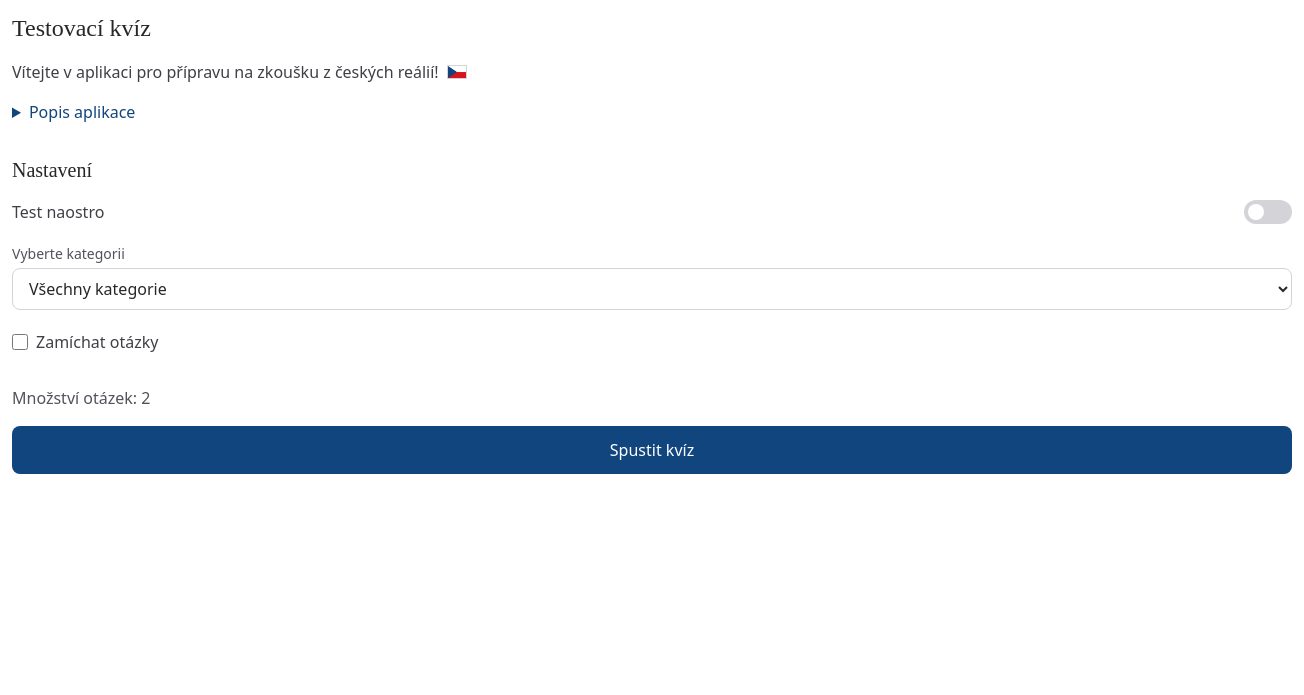
Quiz › playing through a quiz › scores a fully correct run
Click the button "Spustit kvíz".
click(652, 450)  # box [12,426,1292,474]
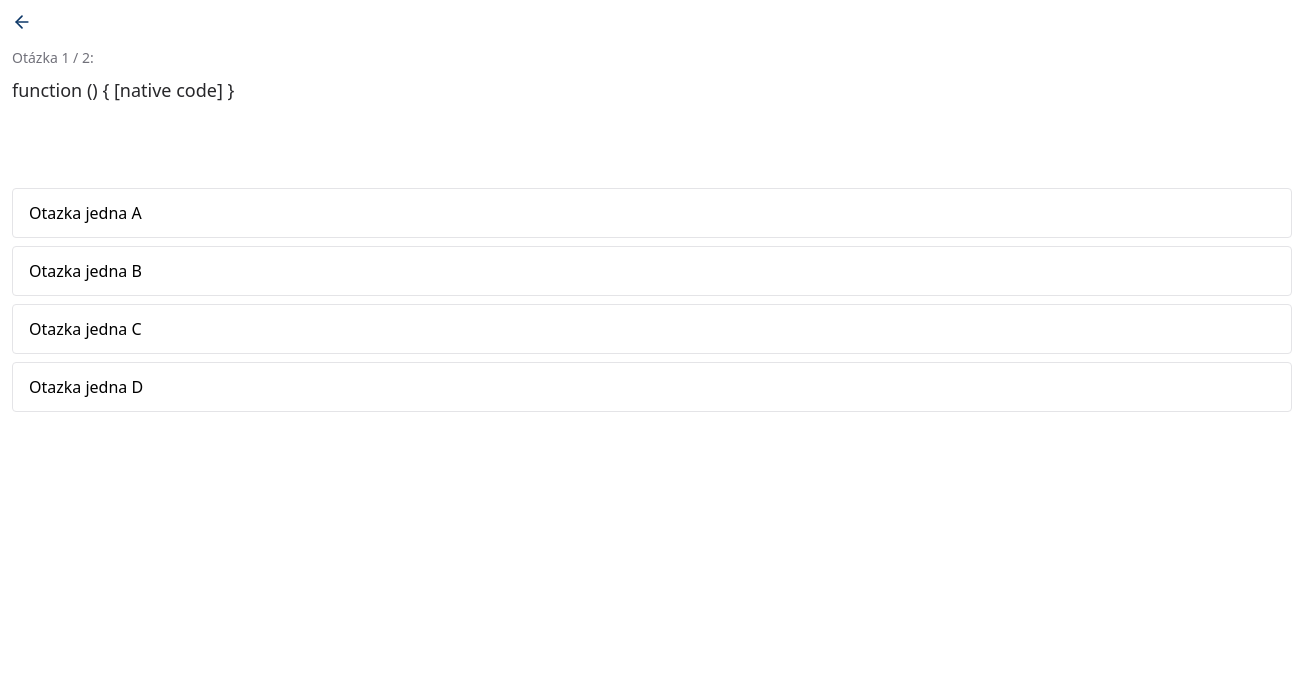
Click the button "Otazka jedna C".
click(85, 329)  # box [12,304,1292,354]
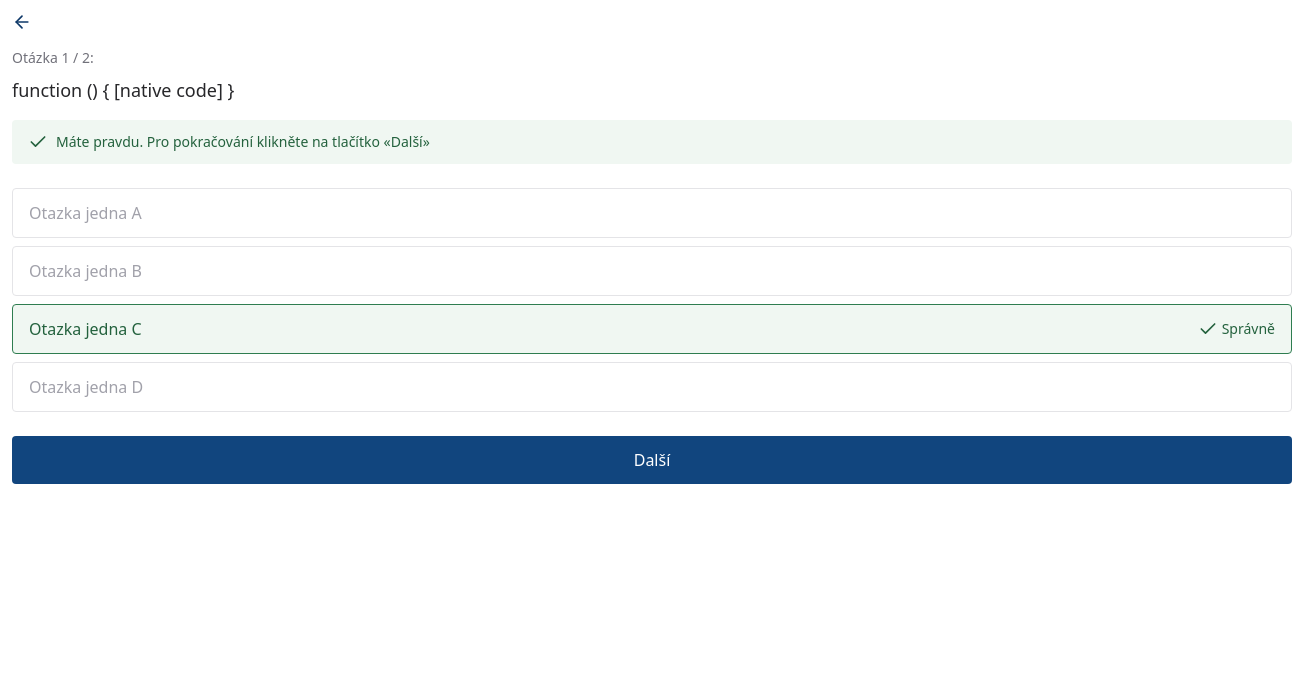
Click the button "Další".
click(652, 460)  # box [12,436,1292,484]
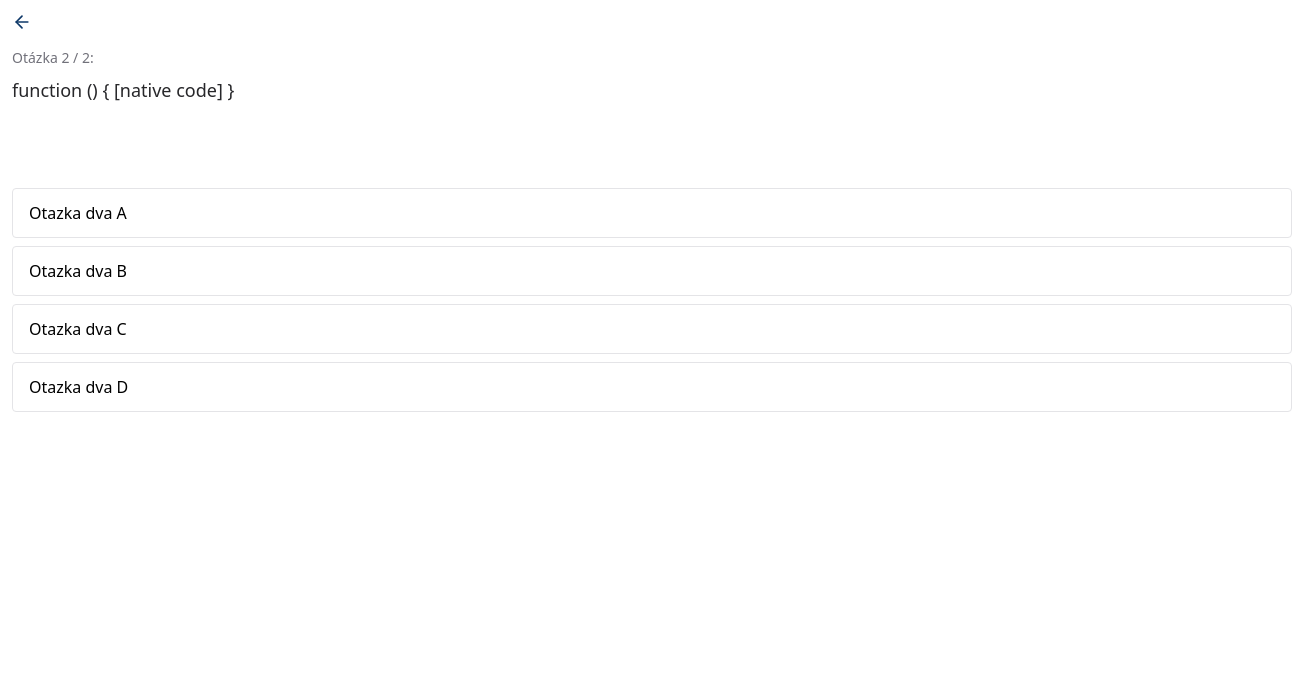
Click the button "Otazka dva A".
click(78, 213)  # box [12,188,1292,238]
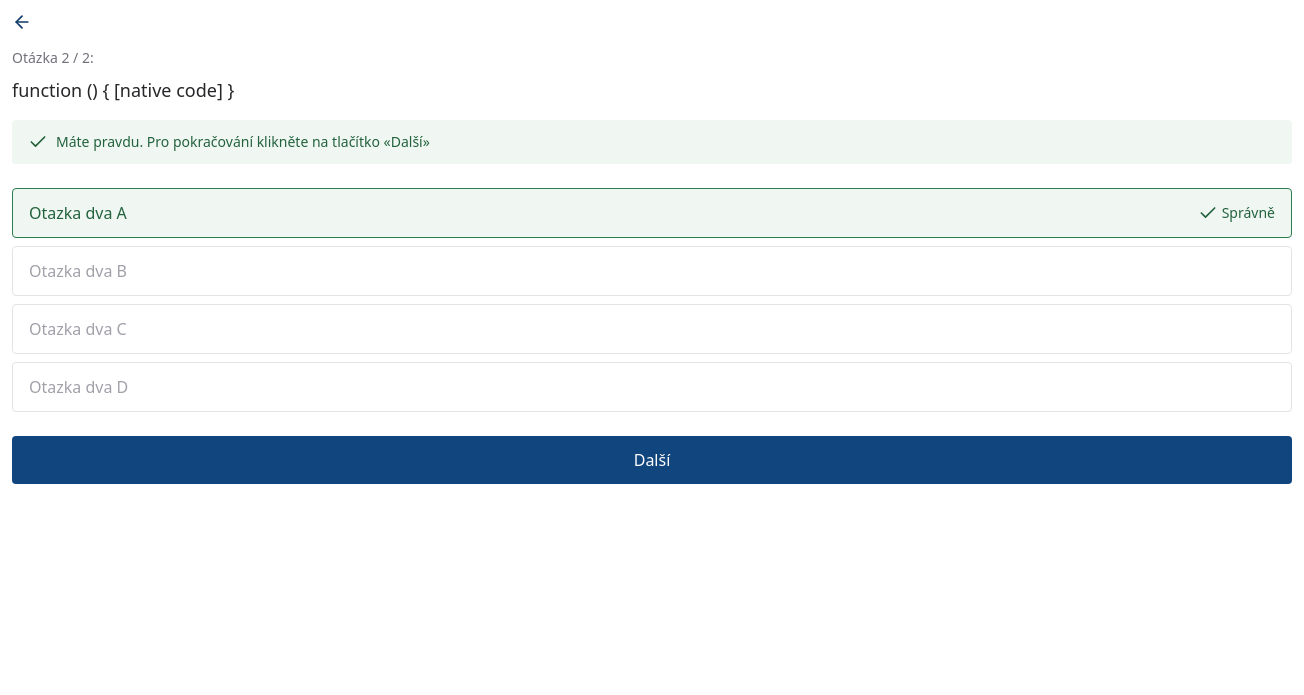
Click the button "Další".
click(652, 460)  # box [12,436,1292,484]
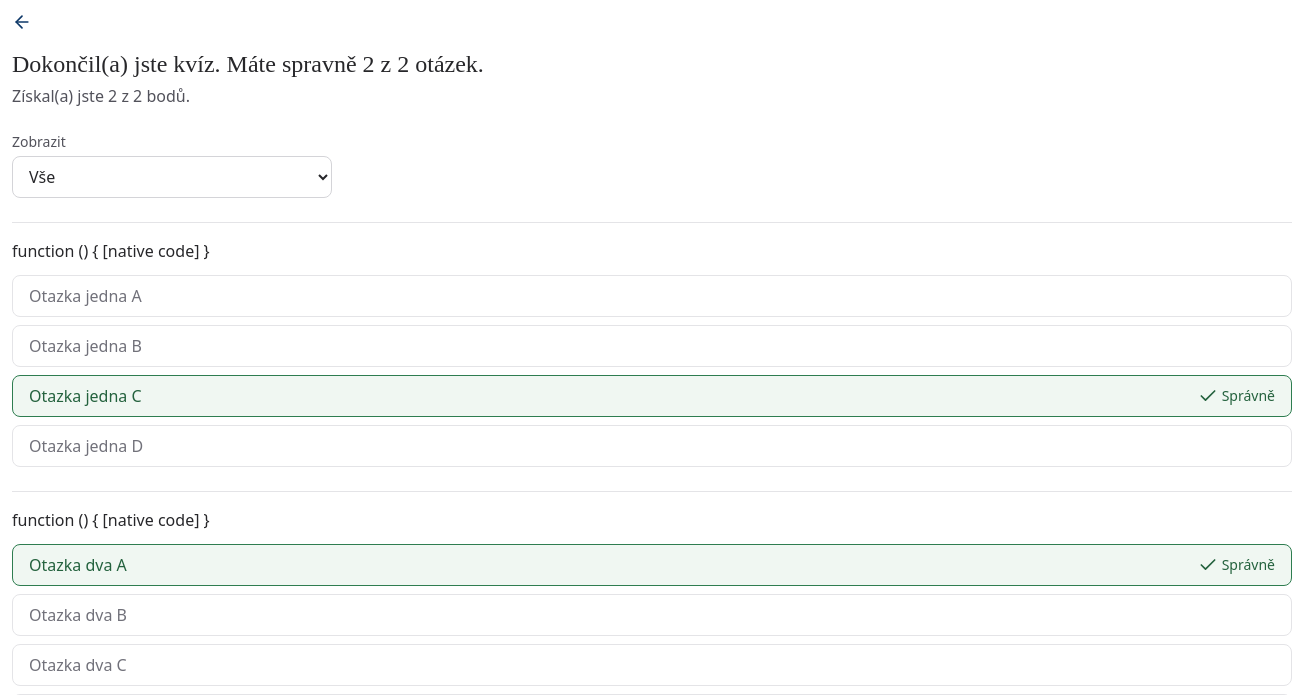
Result: the heading "Dokončil(a) jste kvíz. Máte spravně 2 z 2 otázek." is shown at [12,51,484,77]
